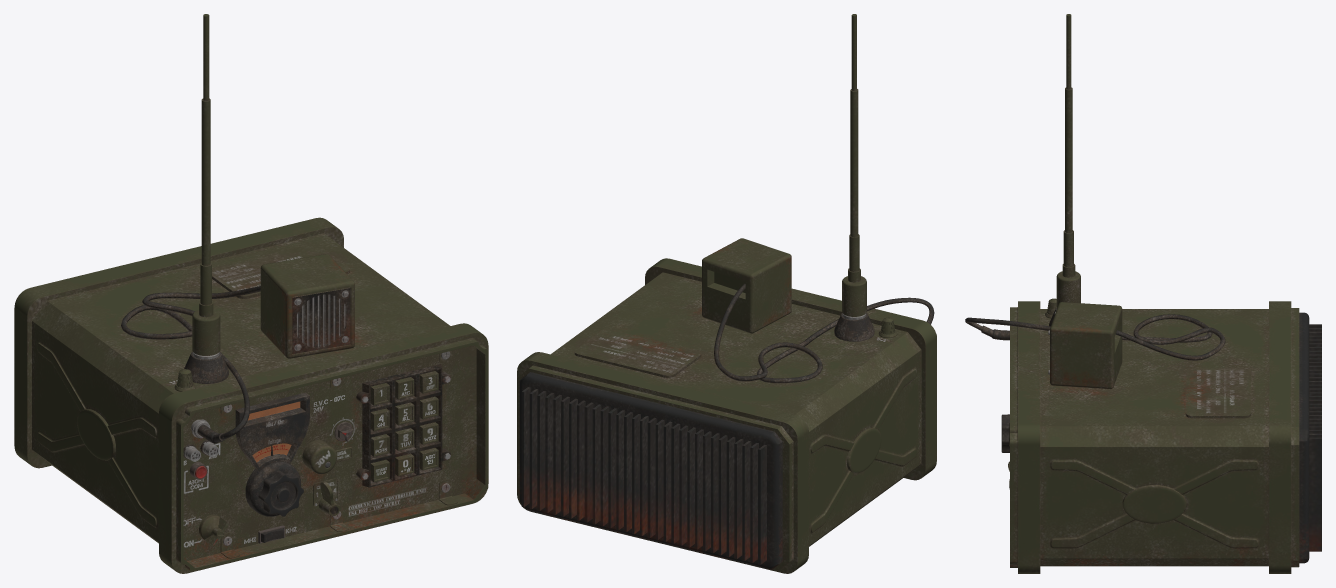
The model's file is old_military_radio.glb.
3 renders of one model, left to right at view 1: azimuth 30°, elevation 25°; view 2: azimuth 150°, elevation 25°; view 3: azimuth 270°, elevation 25°, orthographic. The views are drawn at different scales.
Visible parts, largest first — view 1: Radio, Knob, Power; view 2: Radio; view 3: Radio.
Boxes of the visible parts, bbox=[...] form: Radio: bbox=[14, 14, 488, 573]; Knob: bbox=[258, 470, 303, 516]; Power: bbox=[199, 514, 228, 546]; Radio: bbox=[517, 14, 936, 573]; Radio: bbox=[965, 14, 1321, 573].
Size of the model in its own units: 2.06 by 3.26 by 2.31.
1 material, 1 textured.
